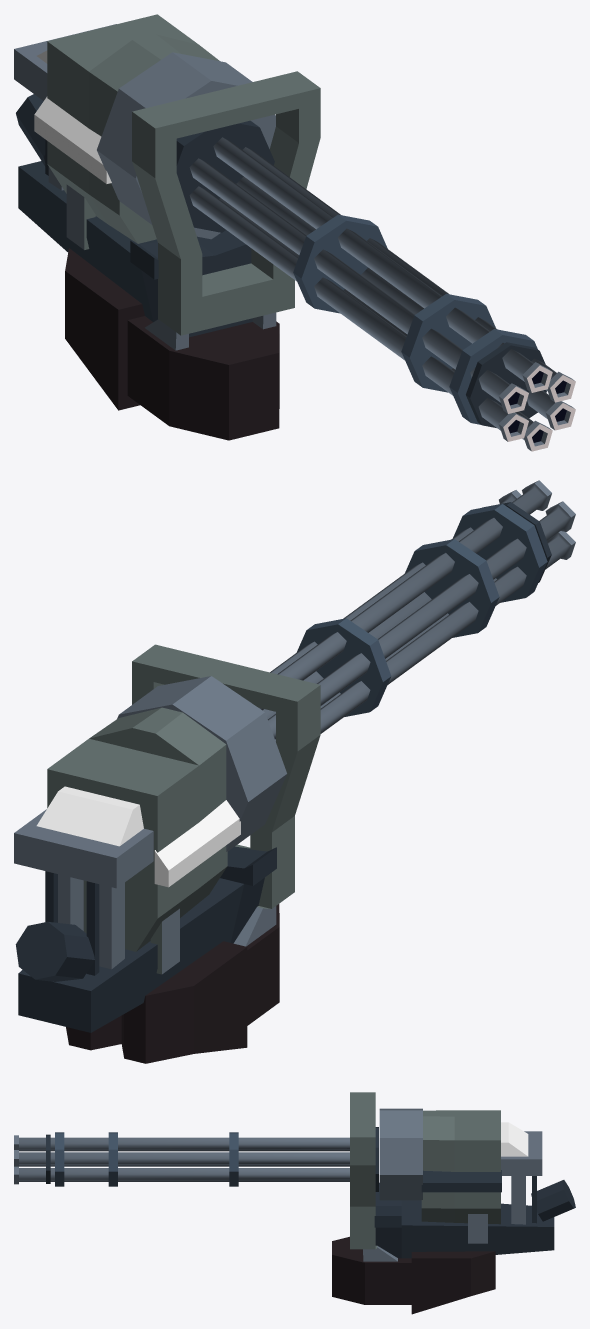
File: Pickup_Rifle.fbx
The picture shows the model from 3 angles, top to bottom: view 1: azimuth 30°, elevation 25°; view 2: azimuth 150°, elevation 25°; view 3: azimuth 270°, elevation 25°; orthographic projection. The views are drawn at different scales.
Visible parts, largest first — view 1: Turret_Main, Turret_Rotating_Barrels; view 2: Turret_Main, Turret_Rotating_Barrels; view 3: Turret_Main, Turret_Rotating_Barrels.
Boxes of the visible parts, box(x1,y1,x2,y2) form: Turret_Main: box(14, 14, 320, 440); Turret_Rotating_Barrels: box(176, 120, 575, 451); Turret_Main: box(14, 644, 320, 1063); Turret_Rotating_Barrels: box(259, 480, 575, 741); Turret_Main: box(332, 1092, 575, 1314); Turret_Rotating_Barrels: box(14, 1127, 378, 1191).
Bounding box in the file's own units: 369 × 714 × 1949.
